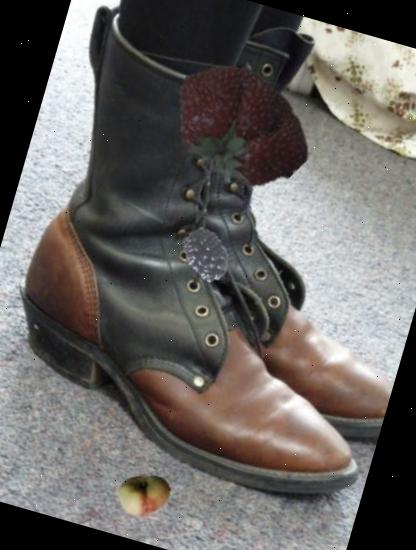Mulberry: (172, 220, 241, 290)
Peach: (110, 462, 178, 530)
Strawberry: (145, 36, 327, 218)
